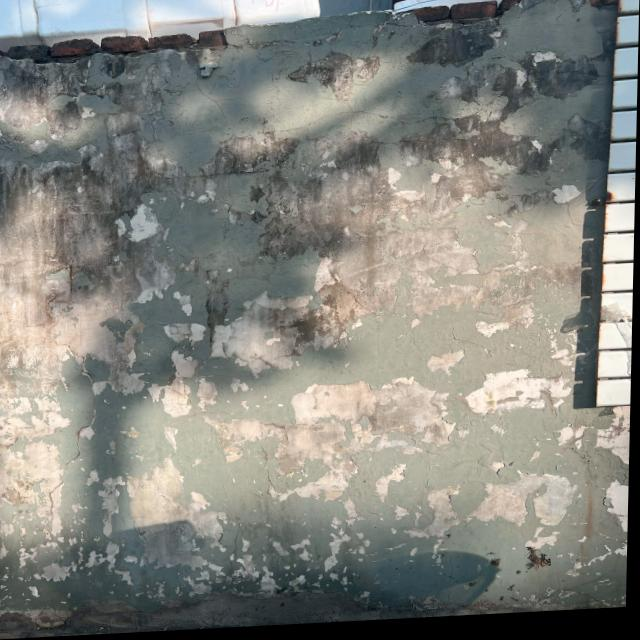crack: (184, 85, 384, 146)
mildew: (389, 52, 595, 185)
spalling: (209, 362, 440, 507), (0, 443, 212, 583), (393, 461, 585, 566), (459, 352, 592, 429)
